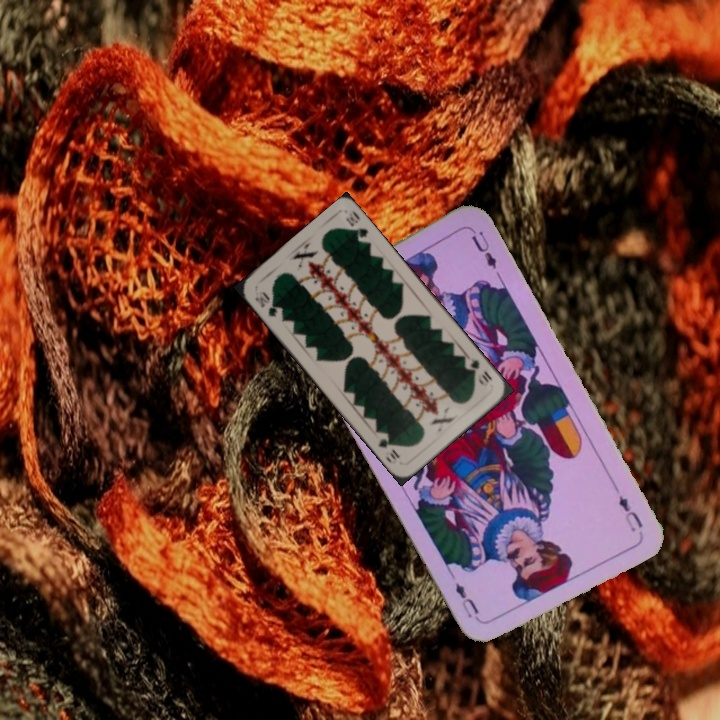EU: (614, 491, 645, 535)
G10: (465, 353, 495, 387), (251, 287, 280, 320)
